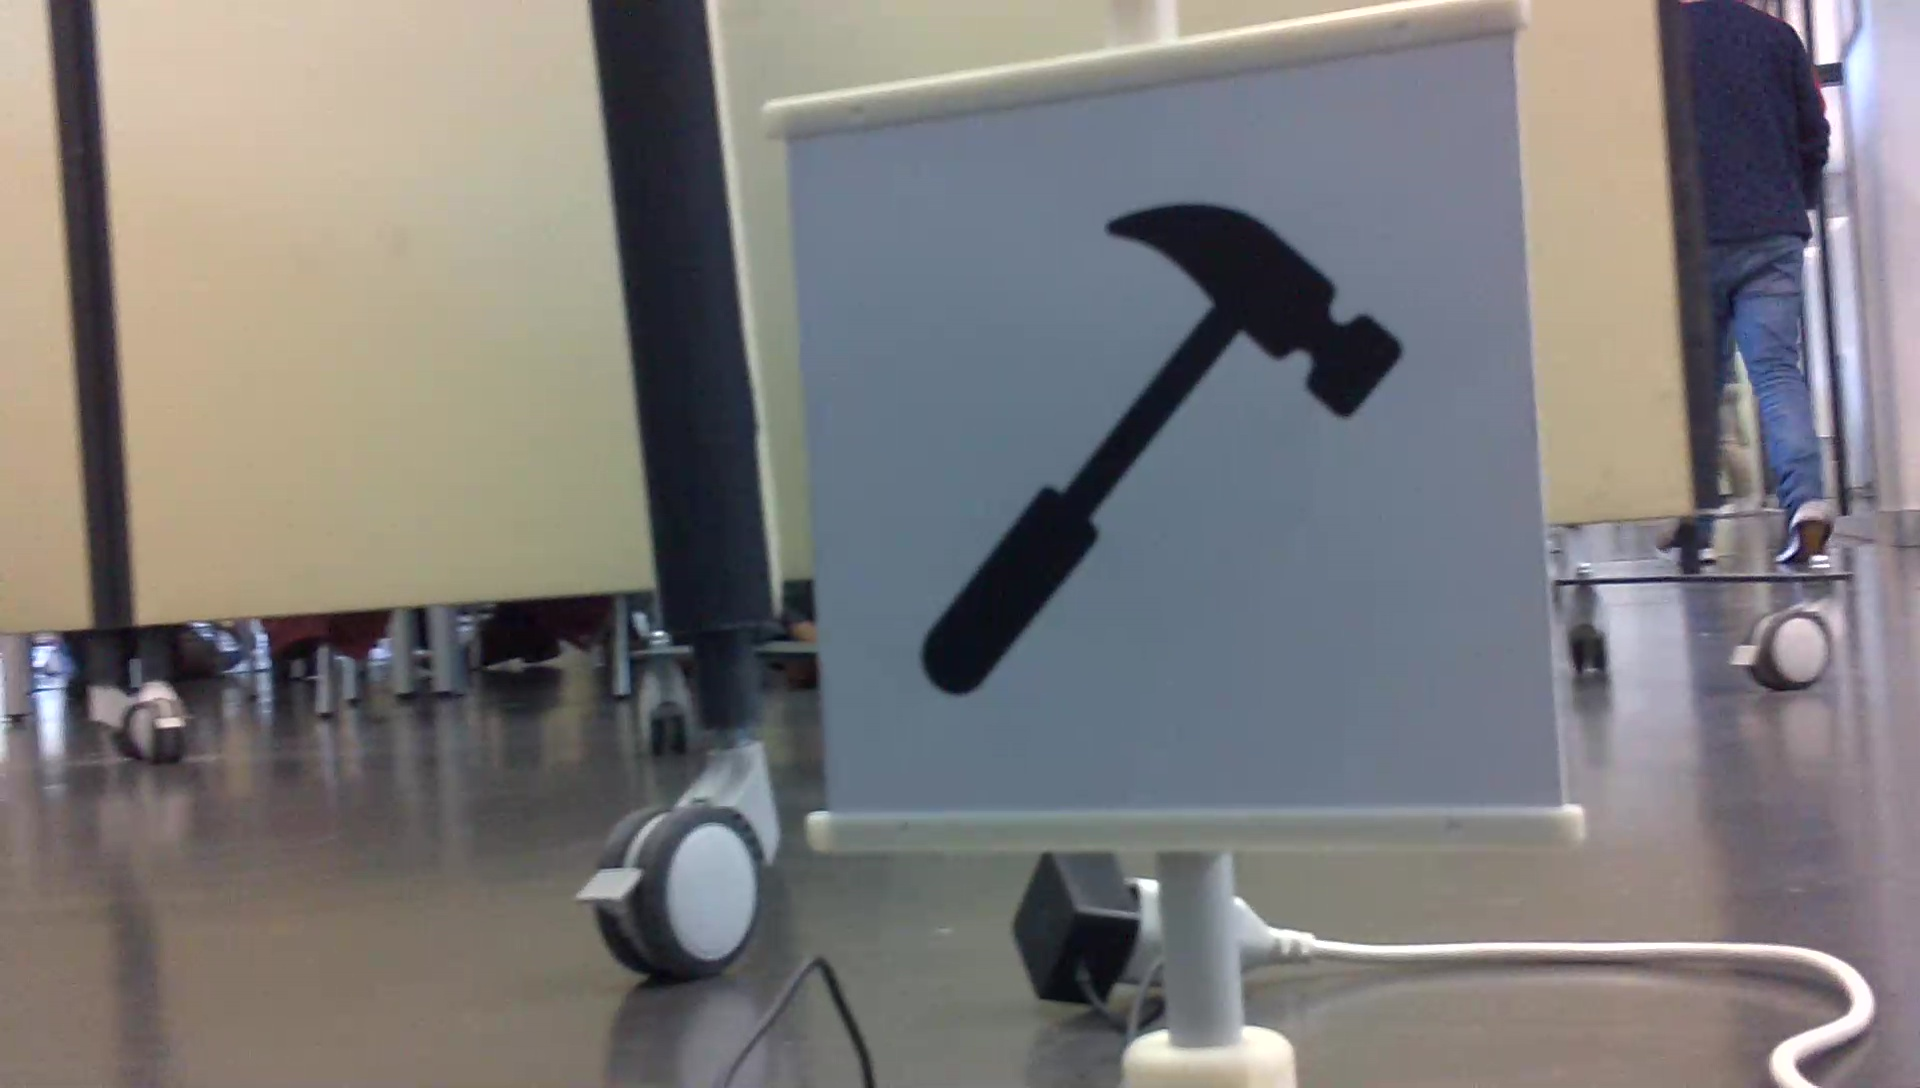hammer: (905, 196, 1415, 702)
